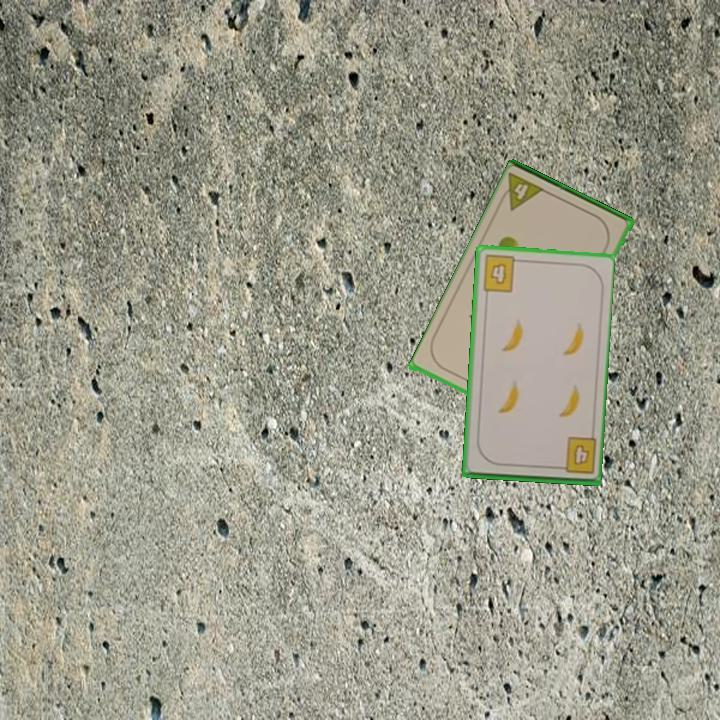4b: (552, 434, 598, 477), (479, 252, 524, 295)
4p: (495, 169, 549, 214)
